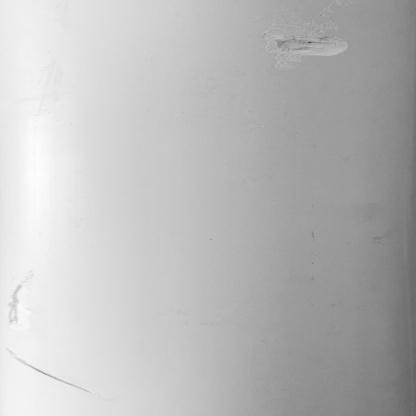sunshang: (3, 344, 102, 399), (265, 17, 359, 67), (7, 270, 40, 329)
